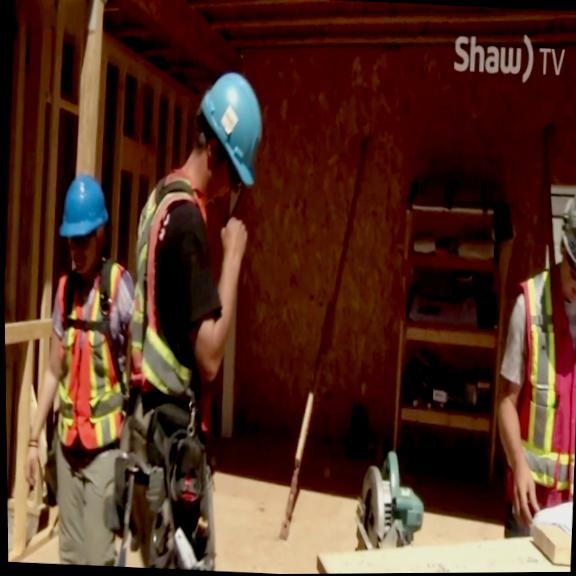safety_vest: (127, 158, 213, 395), (503, 261, 576, 520), (45, 254, 139, 455)
